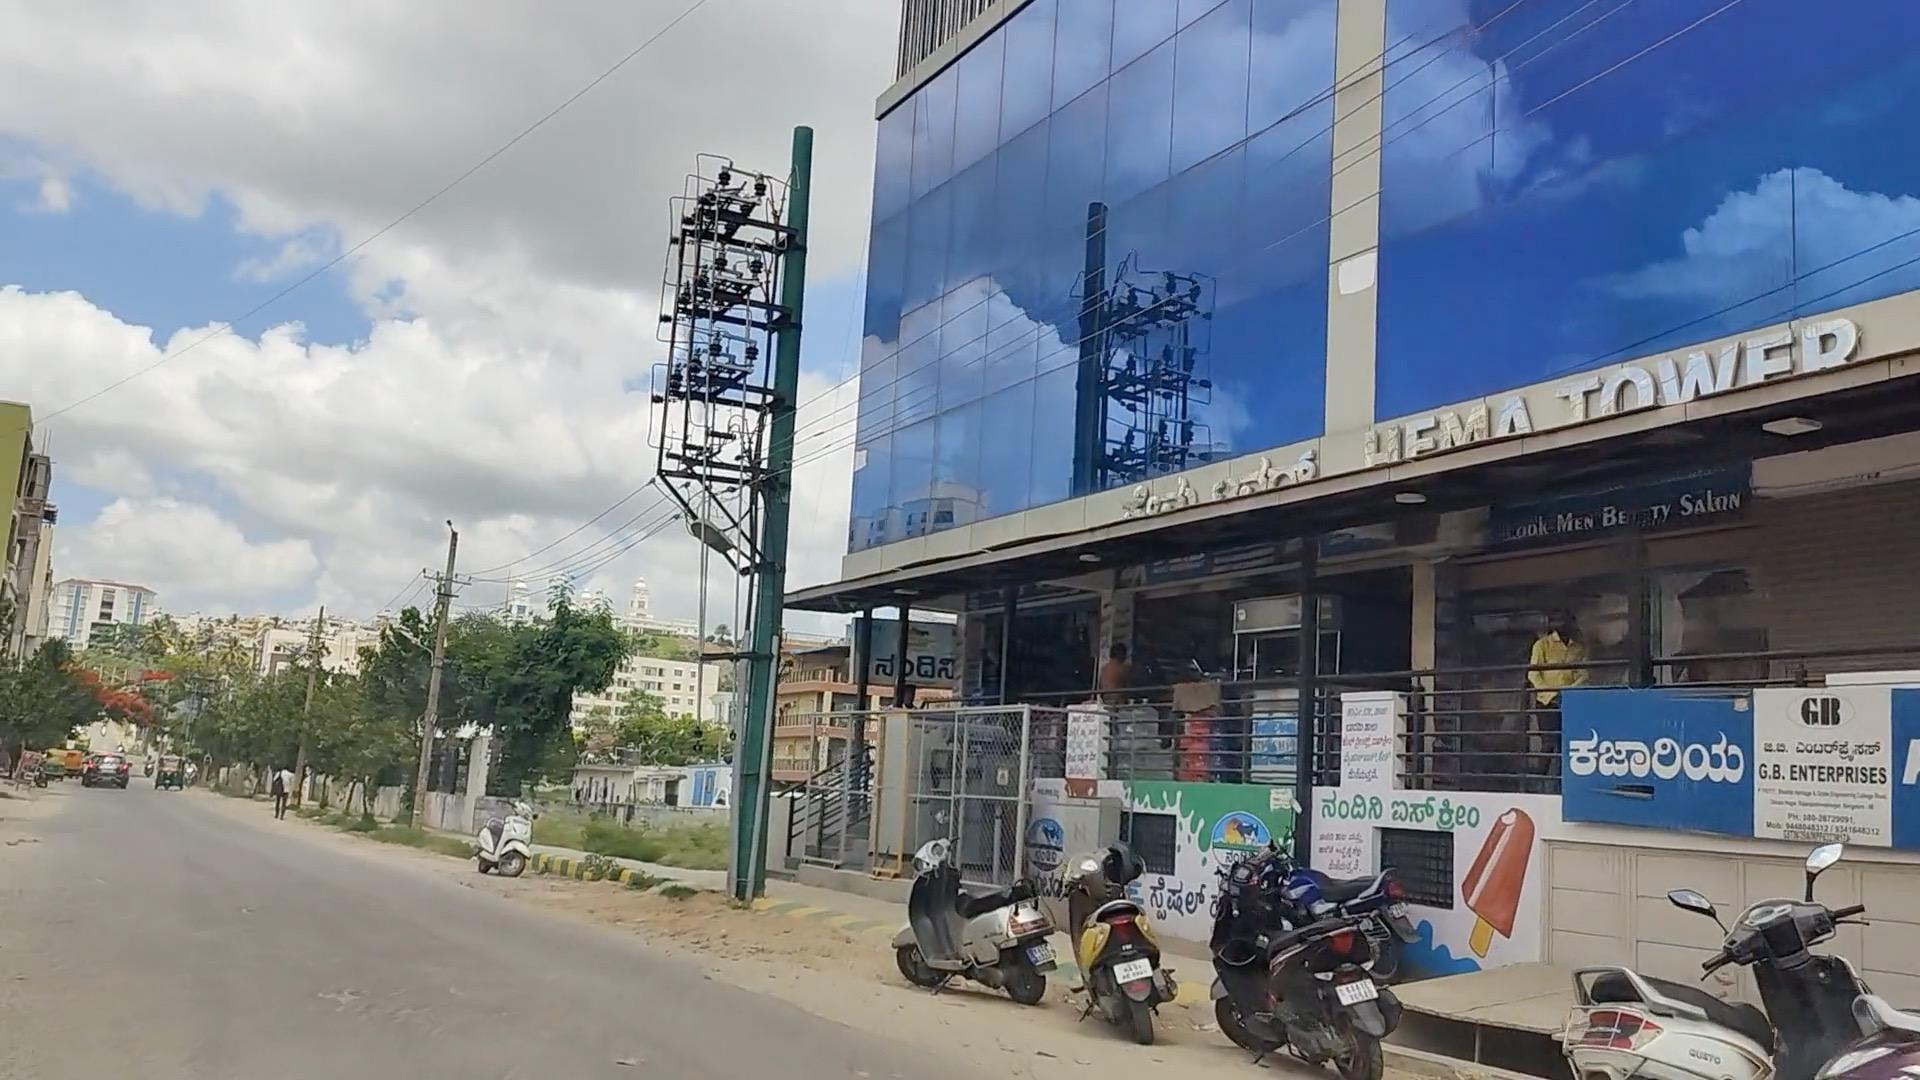RoadDamages: (277, 945, 440, 1040)
